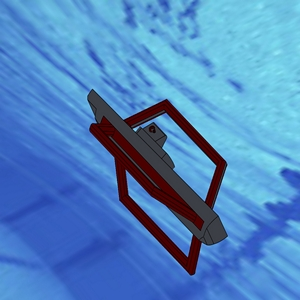submarine: (54, 62, 260, 283)
